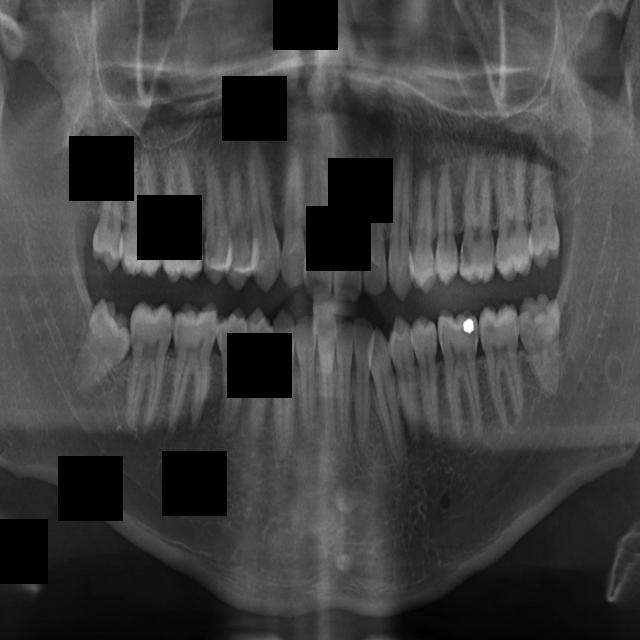3M ESPE Implant: (90, 151, 128, 274)
AGS Medikal Implant: (478, 301, 525, 436)
AMerOss Implant: (436, 305, 484, 446)
Amalgam filling: (116, 147, 162, 280)
Anthogyr Implant: (411, 314, 443, 444)
Bicon Implant: (385, 312, 426, 455)
BioHorizons Implant: (362, 326, 415, 484)
BioLife Implant: (353, 314, 375, 457)
Biomet 3i Implant: (335, 316, 353, 445)
Blue Sky Bio Implant: (316, 311, 335, 442)
Camlog Implant: (295, 314, 315, 439)
Caries: (360, 150, 388, 297)
Composite filling: (270, 307, 293, 467)
Cowellmedi Implant: (239, 306, 272, 450)
Crown: (207, 304, 248, 444)
DENTSPLY Implant: (154, 145, 206, 286)
Dentatus Implant: (168, 298, 218, 435)
Dentis Implant: (125, 299, 173, 434)
Dentium Implant: (64, 294, 142, 405)
Euroteknika Implant: (200, 142, 229, 287)
Filling: (227, 165, 252, 290)
Frontier Implant: (245, 127, 283, 294)
Hiossen Implant: (387, 124, 415, 304)
Implant: (304, 135, 338, 304)
Implant Direct: (280, 134, 307, 290)
Keystone Dental Implant: (333, 140, 362, 306)
MIS Implant: (410, 164, 436, 295)
Mandible: (430, 156, 459, 289)
Maxilla: (455, 149, 496, 285)
Megagen Implant: (491, 148, 533, 283)
Neodent Implant: (524, 140, 562, 270)
Neoss Implant: (519, 293, 561, 400)
